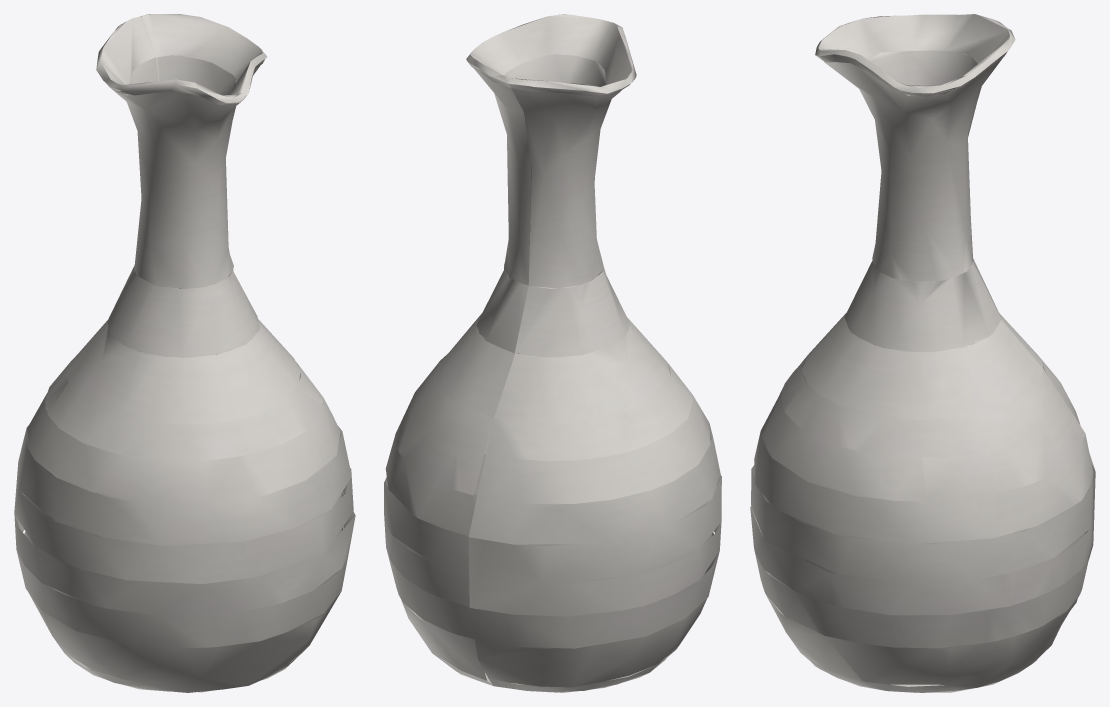
File: ceramic_vase_01.gltf
The picture shows the model from 3 angles, left to right: view 1: azimuth 30°, elevation 25°; view 2: azimuth 150°, elevation 25°; view 3: azimuth 270°, elevation 25°; orthographic projection.
Visible parts, largest first — view 1: ceramic_vase_01; view 2: ceramic_vase_01; view 3: ceramic_vase_01.
Part boxes in pixels (bbox=[...]): ceramic_vase_01: bbox=[14, 14, 355, 692]; ceramic_vase_01: bbox=[384, 14, 721, 692]; ceramic_vase_01: bbox=[750, 14, 1095, 692].
Size of the model in its own units: 0.2054 by 0.4005 by 0.2048.
Materials: 1 (1 with a texture image).
